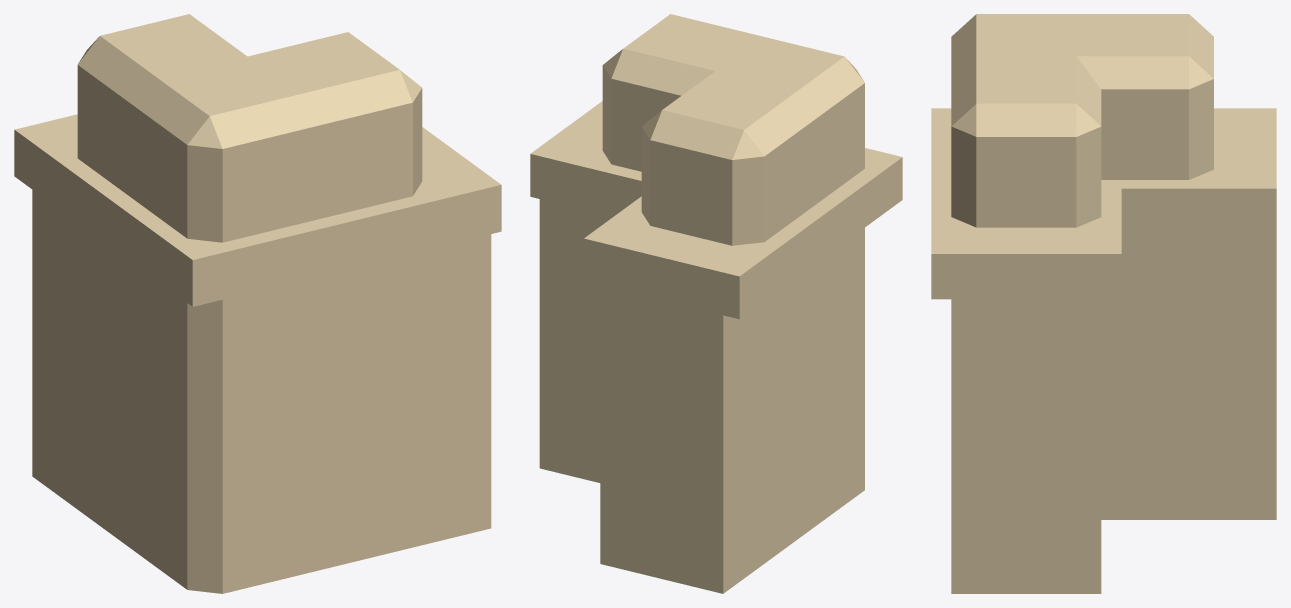
Rendered from wall_curve_base.glb.
The picture shows the model from 3 angles, left to right: view 1: azimuth 30°, elevation 25°; view 2: azimuth 150°, elevation 25°; view 3: azimuth 270°, elevation 25°; orthographic projection. The views are drawn at different scales.
Parts seen in each view (by area): view 1: wall; view 2: wall; view 3: wall.
Part boxes in pixels (bbox=[...]): wall: bbox=[14, 14, 501, 593]; wall: bbox=[530, 14, 902, 593]; wall: bbox=[931, 14, 1276, 593].
Size of the model in its own units: 0.69 by 1 by 0.69.
